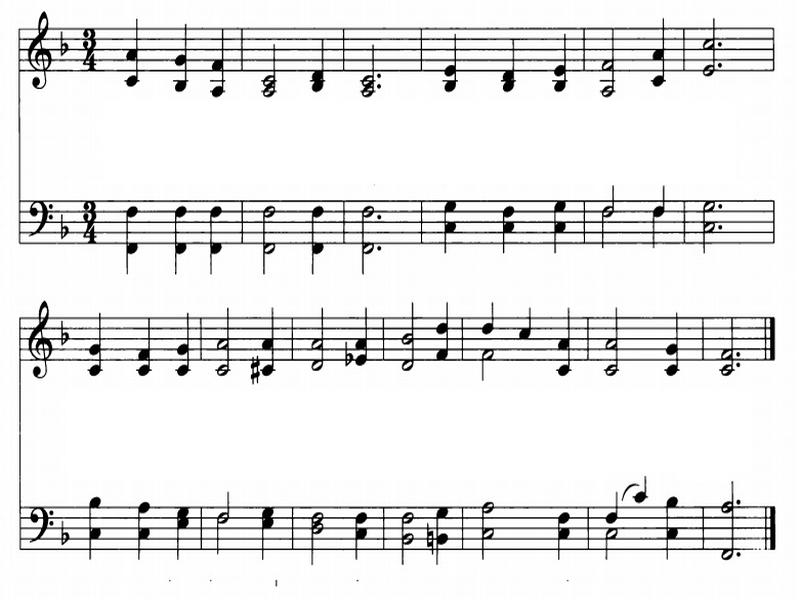B: (592, 304, 631, 382), (349, 192, 376, 274), (252, 200, 281, 274), (211, 300, 237, 381), (692, 3, 717, 85), (299, 301, 327, 373), (595, 19, 620, 97), (474, 494, 500, 567), (711, 309, 736, 381), (302, 501, 329, 565), (258, 35, 283, 104), (402, 296, 423, 375), (394, 504, 420, 566), (354, 35, 377, 103), (699, 185, 716, 257), (207, 514, 234, 557), (595, 209, 620, 252), (472, 344, 498, 385), (716, 519, 737, 569), (212, 483, 237, 525), (597, 176, 619, 219), (257, 235, 279, 274), (358, 203, 375, 243), (260, 202, 276, 244), (601, 528, 618, 565), (718, 479, 733, 514), (357, 244, 368, 275)
Bem: (48, 214, 75, 243), (57, 515, 74, 544), (56, 30, 71, 55), (60, 317, 72, 346)
CF: (22, 194, 54, 245), (28, 500, 54, 556)
CS: (21, 294, 57, 384), (27, 4, 53, 94)
N: (112, 1, 152, 97), (494, 163, 530, 262), (245, 497, 293, 565), (297, 198, 337, 278), (640, 3, 676, 90), (492, 27, 527, 113), (542, 498, 583, 564), (165, 14, 199, 89), (429, 192, 469, 255), (83, 473, 111, 560), (551, 303, 580, 385), (660, 299, 687, 384), (131, 305, 158, 388), (207, 24, 234, 104), (540, 28, 571, 96), (81, 309, 110, 378), (165, 501, 197, 563), (126, 492, 153, 563), (659, 481, 683, 559), (171, 196, 194, 275), (511, 288, 542, 346), (440, 23, 465, 94), (431, 299, 457, 367), (171, 308, 195, 381), (302, 31, 329, 95), (347, 508, 377, 564), (205, 202, 227, 275), (261, 302, 281, 379), (550, 185, 569, 260), (432, 502, 455, 563), (126, 204, 146, 269), (477, 291, 502, 340), (355, 306, 373, 372), (647, 206, 672, 253), (602, 484, 630, 523), (649, 181, 669, 219), (634, 468, 654, 505)
P: (732, 494, 748, 507), (733, 548, 746, 561), (716, 60, 726, 73), (715, 224, 728, 234), (717, 39, 726, 51), (375, 245, 384, 256), (715, 204, 724, 213), (376, 212, 382, 221)
